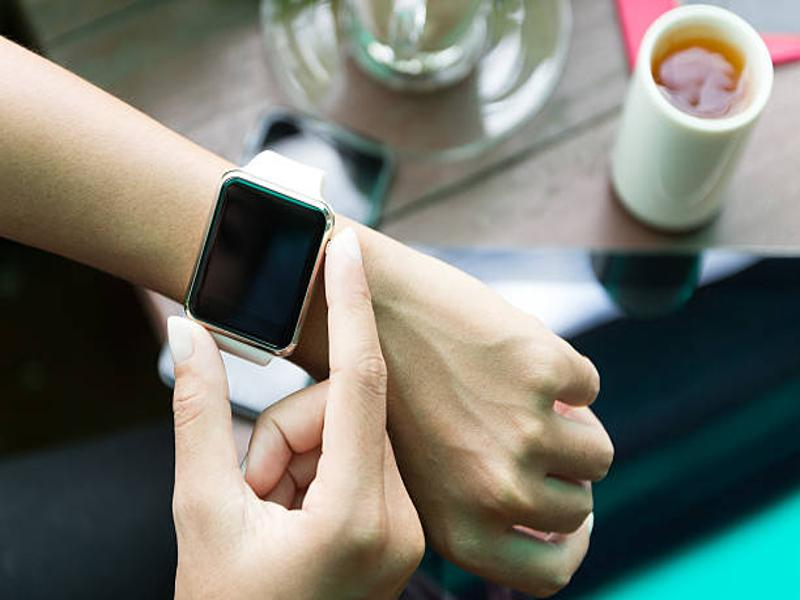watch: (180, 168, 336, 368)
